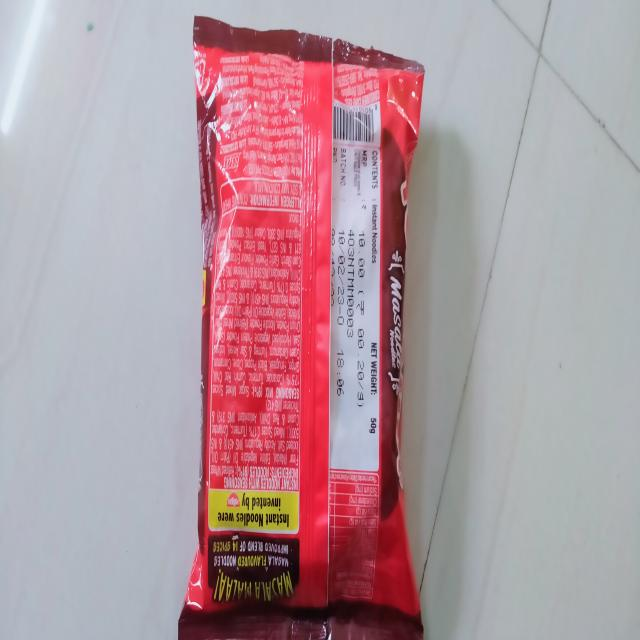maggi: (182, 7, 423, 640)
